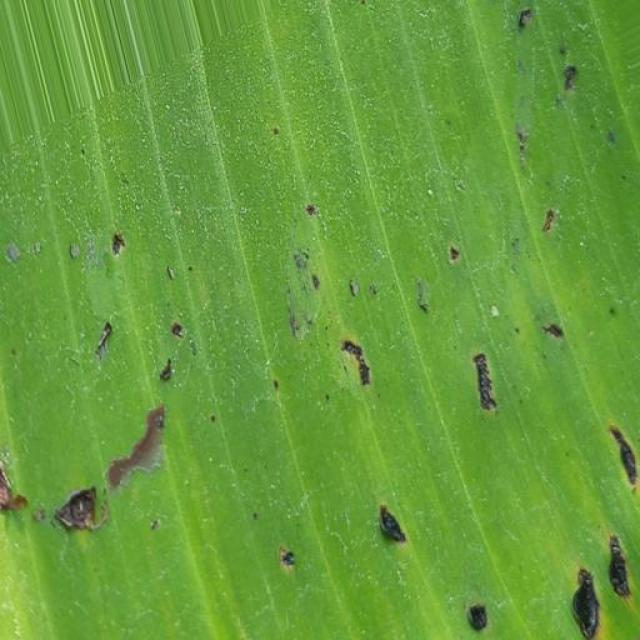Black_rot: (9, 239, 640, 640), (478, 8, 640, 267)
